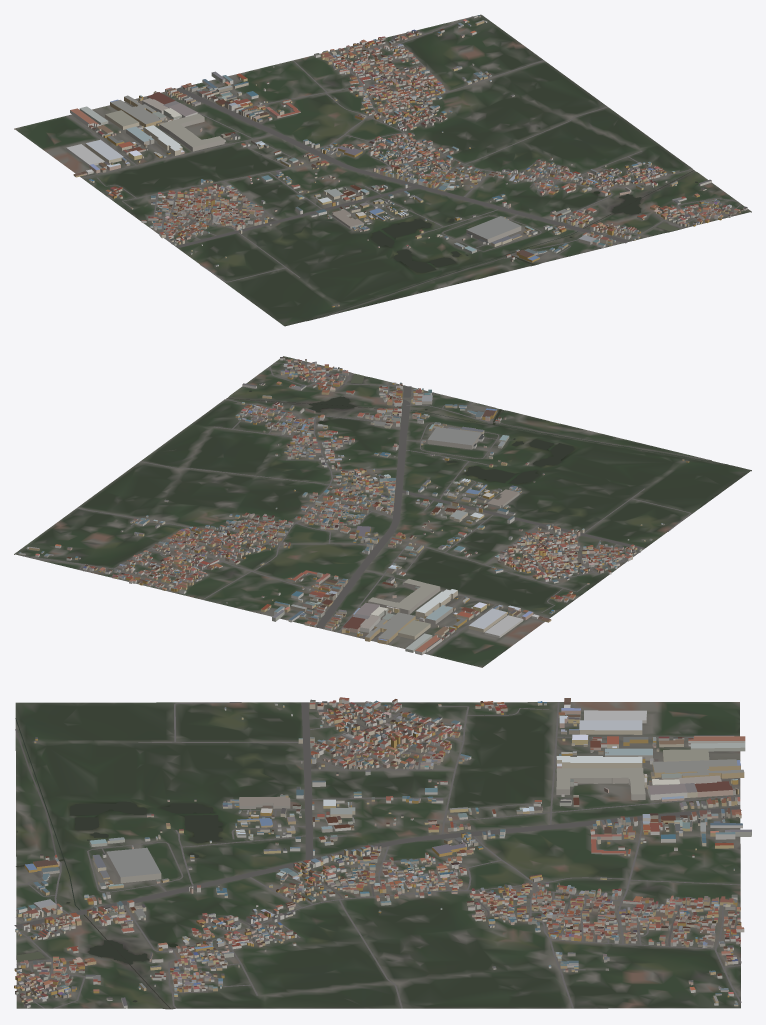
The picture shows the model from 3 angles, top to bottom: view 1: azimuth 30°, elevation 25°; view 2: azimuth 150°, elevation 25°; view 3: azimuth 270°, elevation 25°; orthographic projection. The views are drawn at different scales.
Visible parts, largest first — view 1: ground, buildings, roads, water; view 2: ground, buildings, roads, water; view 3: ground, buildings, roads, water.
Boxes of the visible parts, x1,y1,x2,y2 form: ground: (14, 14, 751, 326); buildings: (66, 15, 747, 307); roads: (68, 16, 741, 316); water: (308, 170, 697, 320); ground: (14, 356, 751, 667); buildings: (18, 357, 689, 655); roads: (22, 360, 711, 654); water: (226, 373, 728, 484); ground: (15, 702, 740, 1009); buildings: (14, 697, 751, 1008); roads: (14, 702, 741, 1008); water: (15, 718, 222, 1008).
Bounding box in the file's own units: 1415 × 22.37 × 1428.
